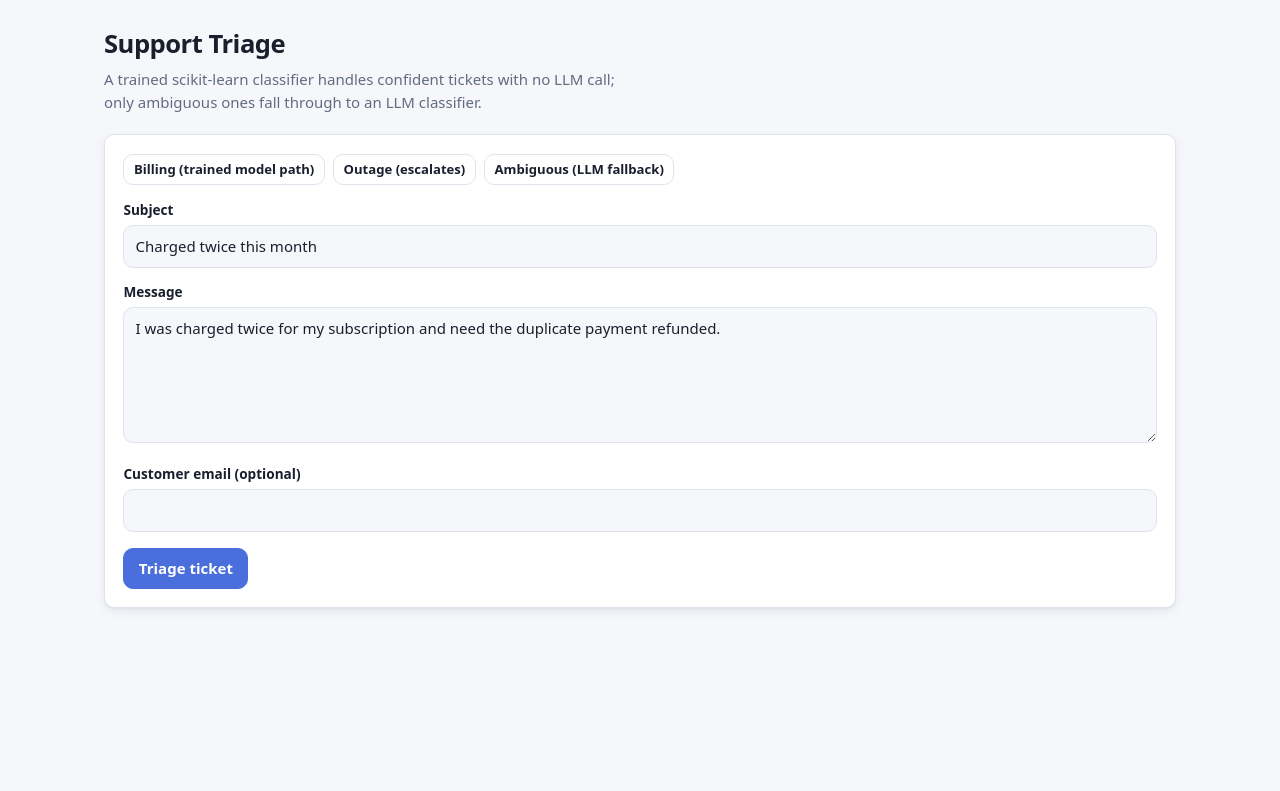
Test: SupportTriage › flags the LLM fallback path and an escalation
Click the button "Triage ticket" at (186, 568), box 123,548 -> 248,589
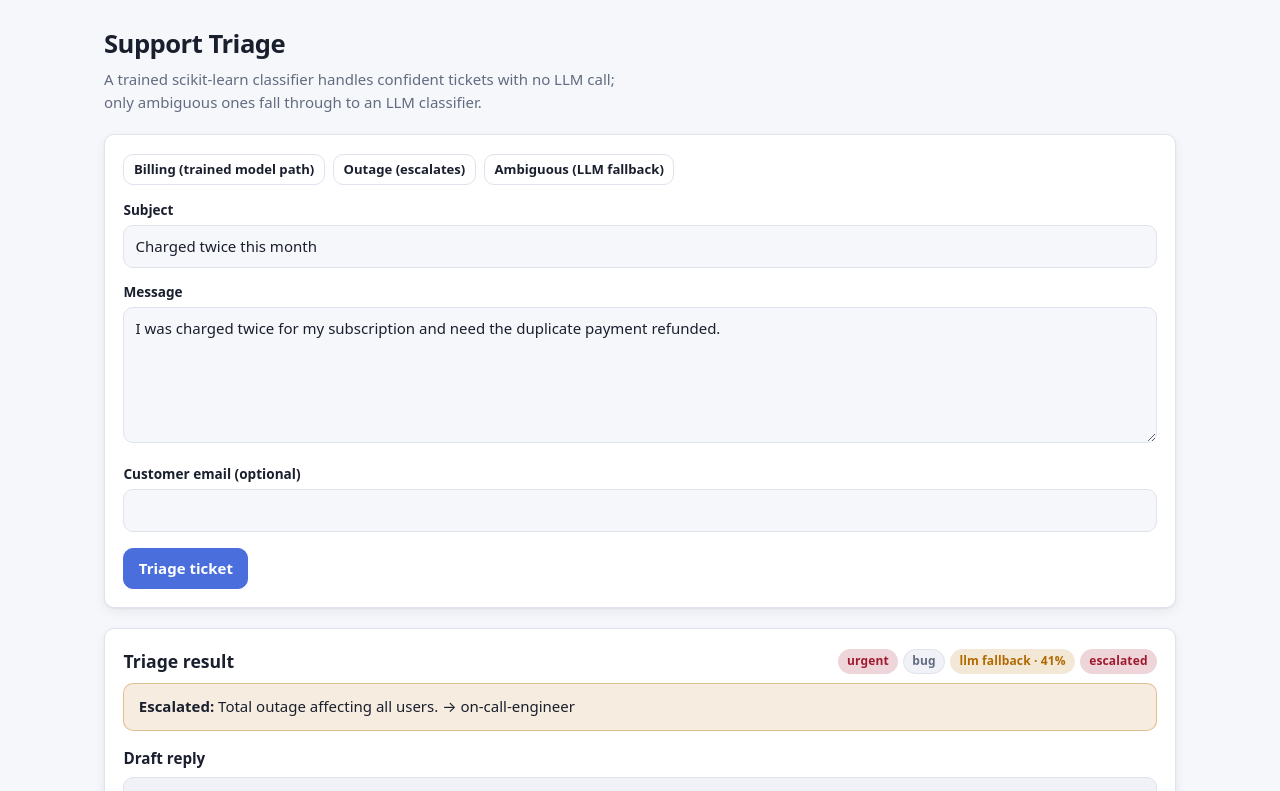
Expected: the text "LLM fallback · 41%" is shown, 950,649 -> 1075,674
Expected: the text "escalated" is shown, 1080,649 -> 1157,674
Expected: the text "Total outage" is shown, 218,696 -> 438,716
